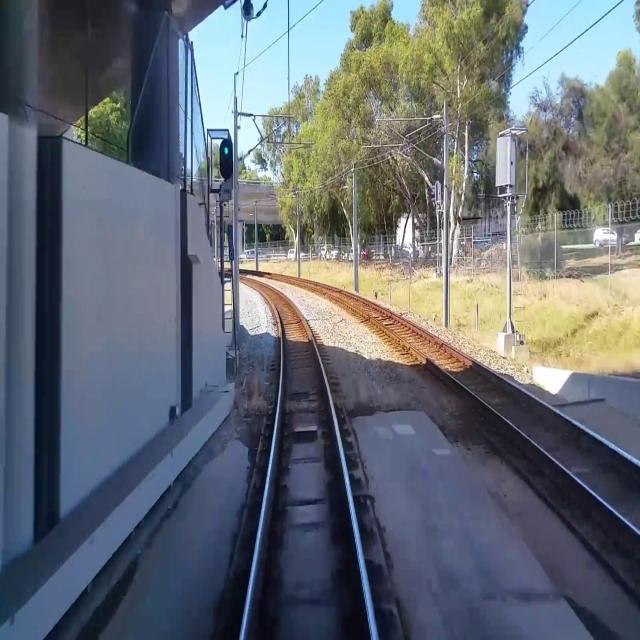rail-track: (301, 280, 640, 530), (245, 282, 373, 639)
